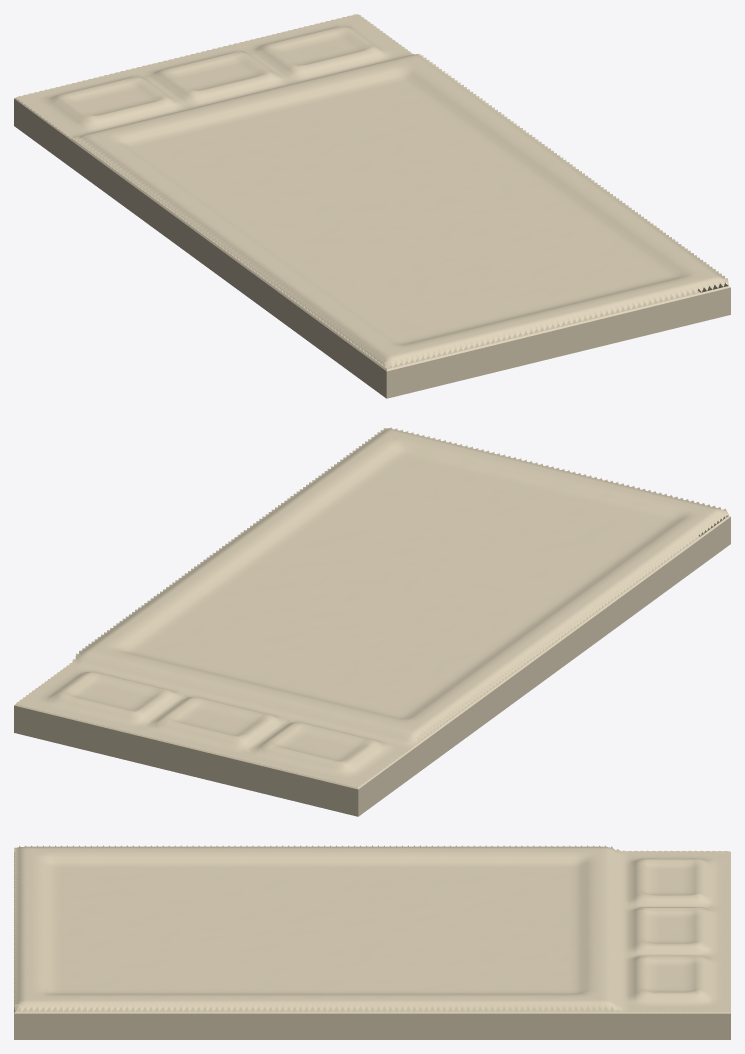
The model's file is mahsulot.glb.
3 renders of one model, top to bottom at view 1: azimuth 30°, elevation 25°; view 2: azimuth 150°, elevation 25°; view 3: azimuth 270°, elevation 25°, orthographic. The views are drawn at different scales.
Parts seen in each view (by area): view 1: mahsulot; view 2: mahsulot; view 3: mahsulot.
Part boxes in pixels (x1=…): mahsulot: x1=14, y1=14, x2=730, y2=398; mahsulot: x1=14, y1=427, x2=730, y2=816; mahsulot: x1=14, y1=845, x2=730, y2=1039.
Bounding box in the file's own units: 0.4 × 0.0399 × 0.75.
